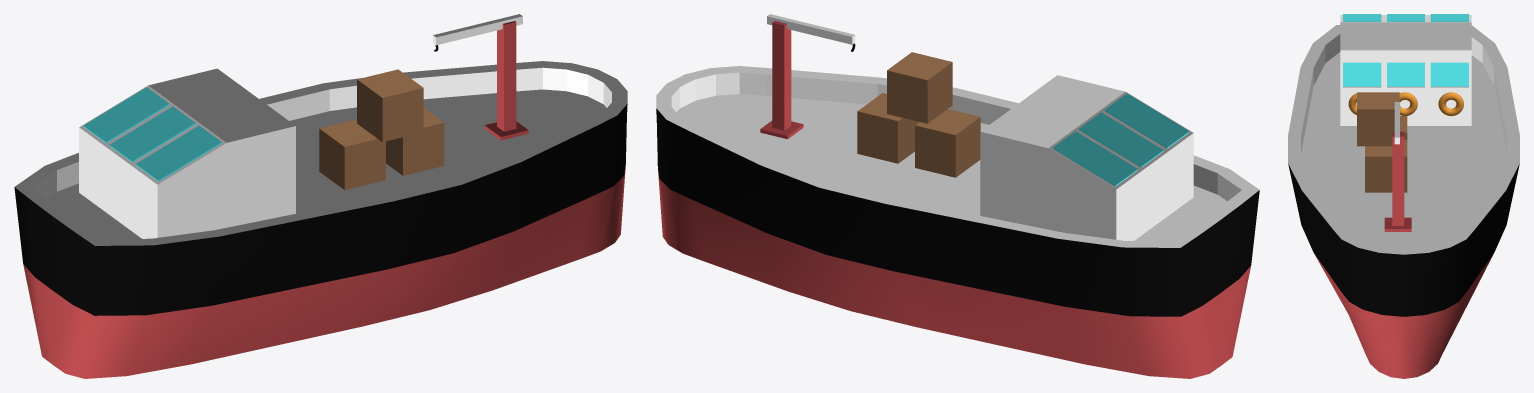
The model's file is tugboat.glb.
3 views of the same model, side by side, from view 1: azimuth 30°, elevation 25°; view 2: azimuth 150°, elevation 25°; view 3: azimuth 270°, elevation 25° (orthographic). The views are drawn at different scales.
Parts seen in each view (by area): view 1: Torus003; view 2: Torus003; view 3: Torus003.
Boxes of the visible parts, x1,y1,x2,y2 form: Torus003: (14, 14, 627, 378); Torus003: (656, 14, 1259, 378); Torus003: (1288, 14, 1519, 378).
Size of the model in its own units: 41.48 by 16.85 by 17.66.
Materials: 1 (1 with a texture image).
